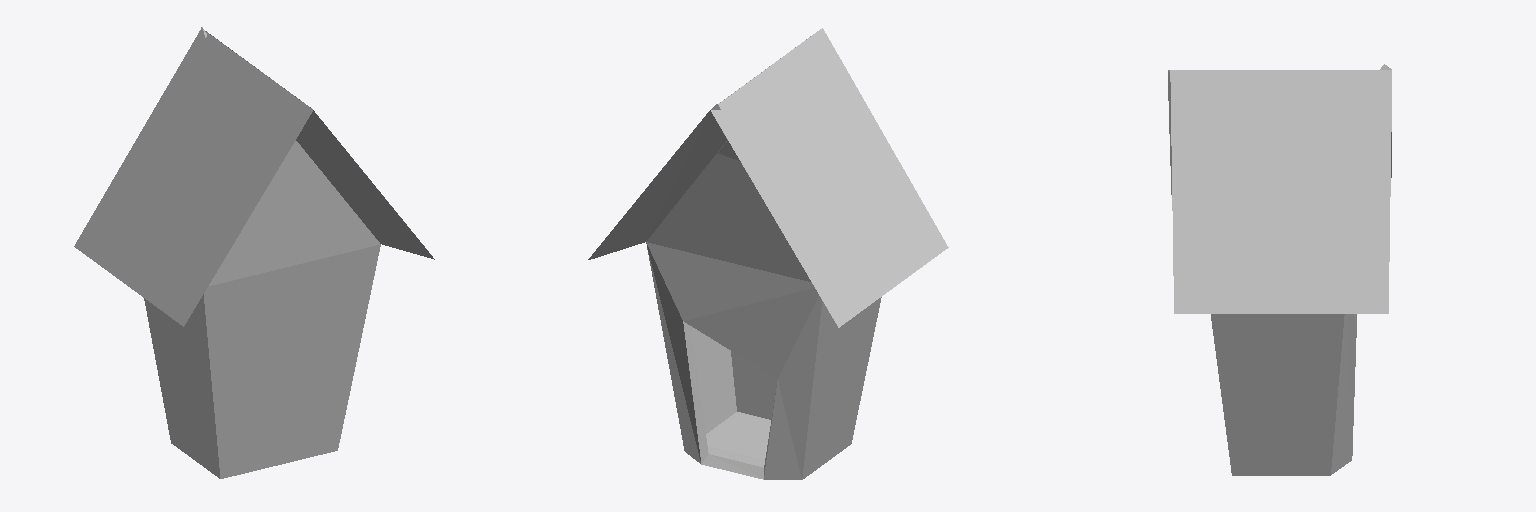
The model's file is DogHouse.obj.
3 views of the same model, side by side, from view 1: azimuth 30°, elevation 25°; view 2: azimuth 150°, elevation 25°; view 3: azimuth 270°, elevation 25° (orthographic).
Visible parts, largest first — view 1: pCube1; view 2: pCube1; view 3: pCube1.
Part boxes in pixels (bbox=[...]): pCube1: bbox=[74, 27, 434, 478]; pCube1: bbox=[588, 28, 948, 479]; pCube1: bbox=[1168, 64, 1391, 475].
Bounding box in the file's own units: 2.95 × 4.26 × 2.27.